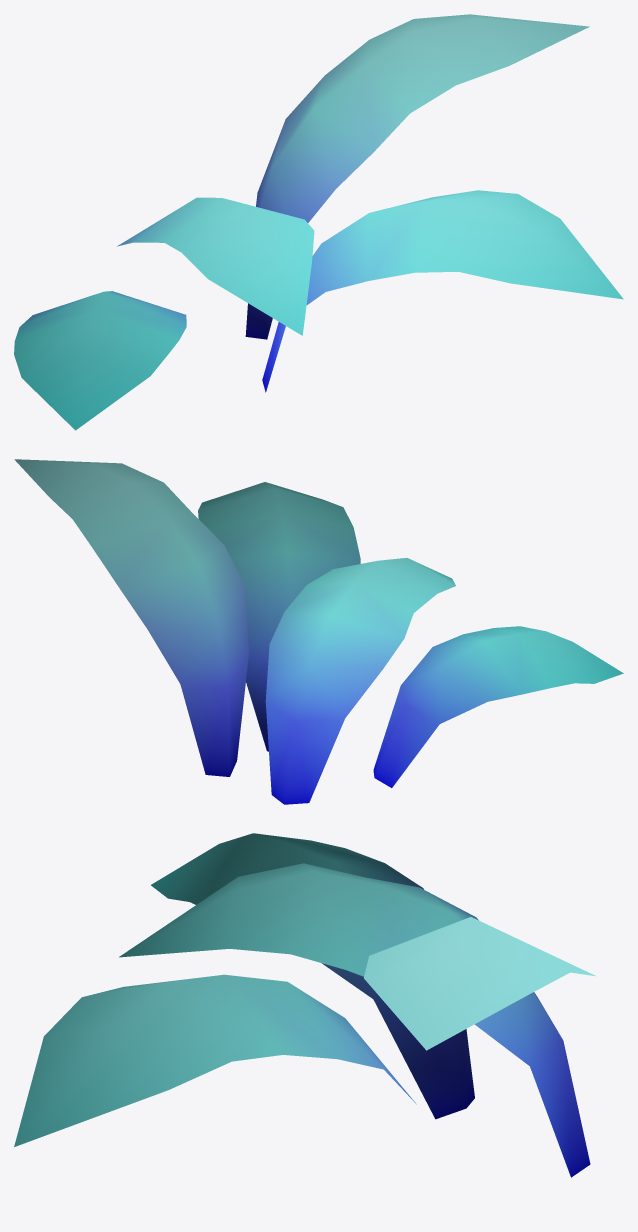
Rendered from SM_Env_Fern_Part_01.glb.
The picture shows the model from 3 angles, top to bottom: view 1: azimuth 30°, elevation 25°; view 2: azimuth 150°, elevation 25°; view 3: azimuth 270°, elevation 25°; orthographic projection. The views are drawn at different scales.
Parts seen in each view (by area): view 1: SM_Env_Fern_Part_01_LOD0; view 2: SM_Env_Fern_Part_01_LOD0; view 3: SM_Env_Fern_Part_01_LOD0.
Boxes of the visible parts, <box> form: SM_Env_Fern_Part_01_LOD0: <box>14,14,623,430</box>; SM_Env_Fern_Part_01_LOD0: <box>14,459,623,804</box>; SM_Env_Fern_Part_01_LOD0: <box>14,833,595,1177</box>.
Size of what is drawn, in the model's own units: 2.55 by 1.16 by 1.6.
